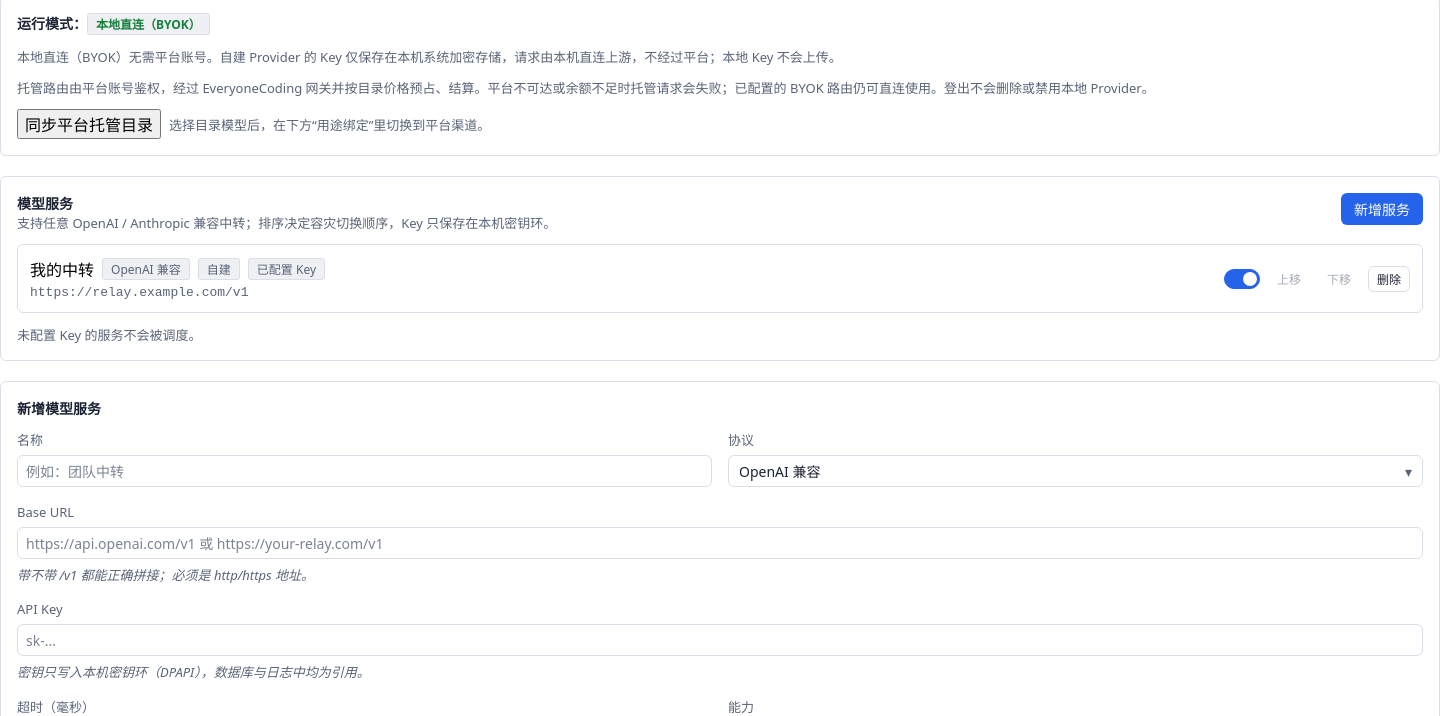
Provider 设置页 › 连接测试：确认可能计费后展示耗时与可用模型数量（V2-MDL-07）
// 选中列表里的服务进入编辑态
Click the text "我的中转": (178, 269) [30,257,325,281]
(page scrolled)
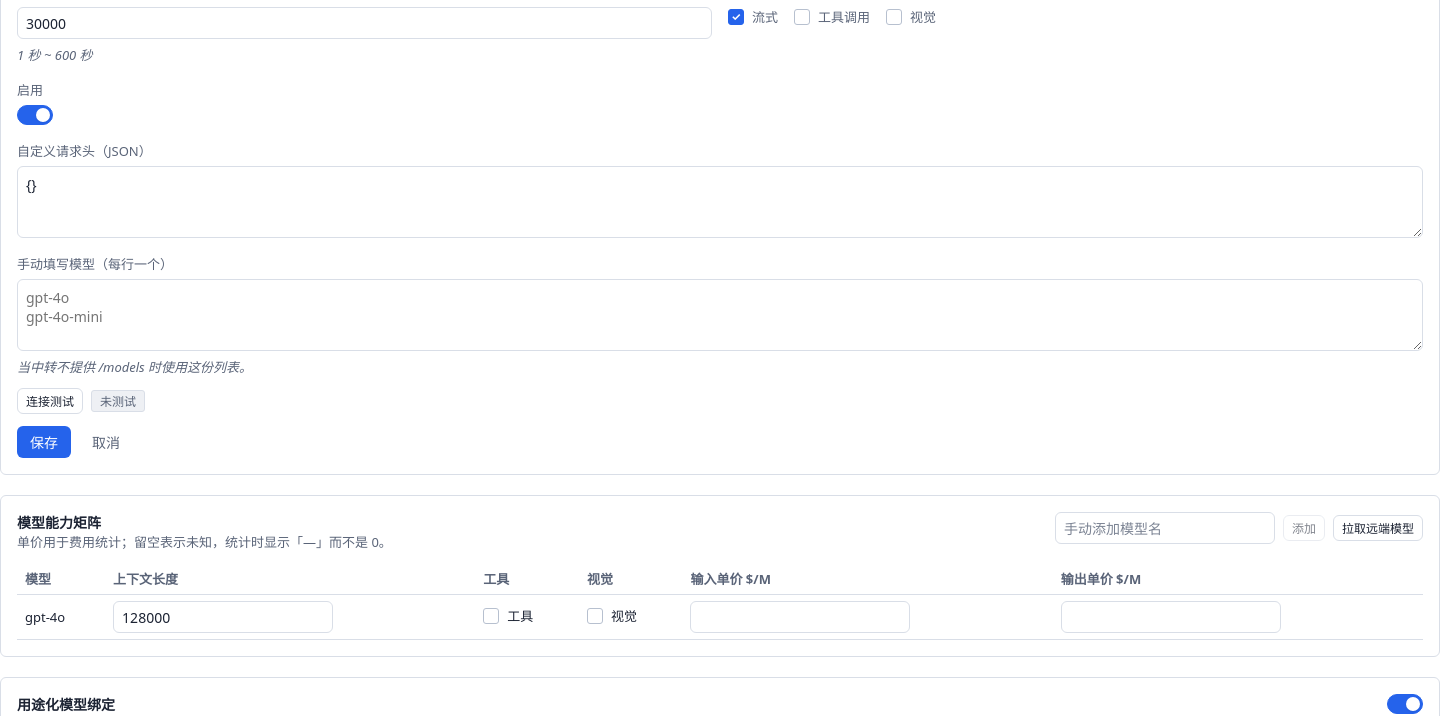
Click the button "连接测试": (50, 401) [17,388,83,414]
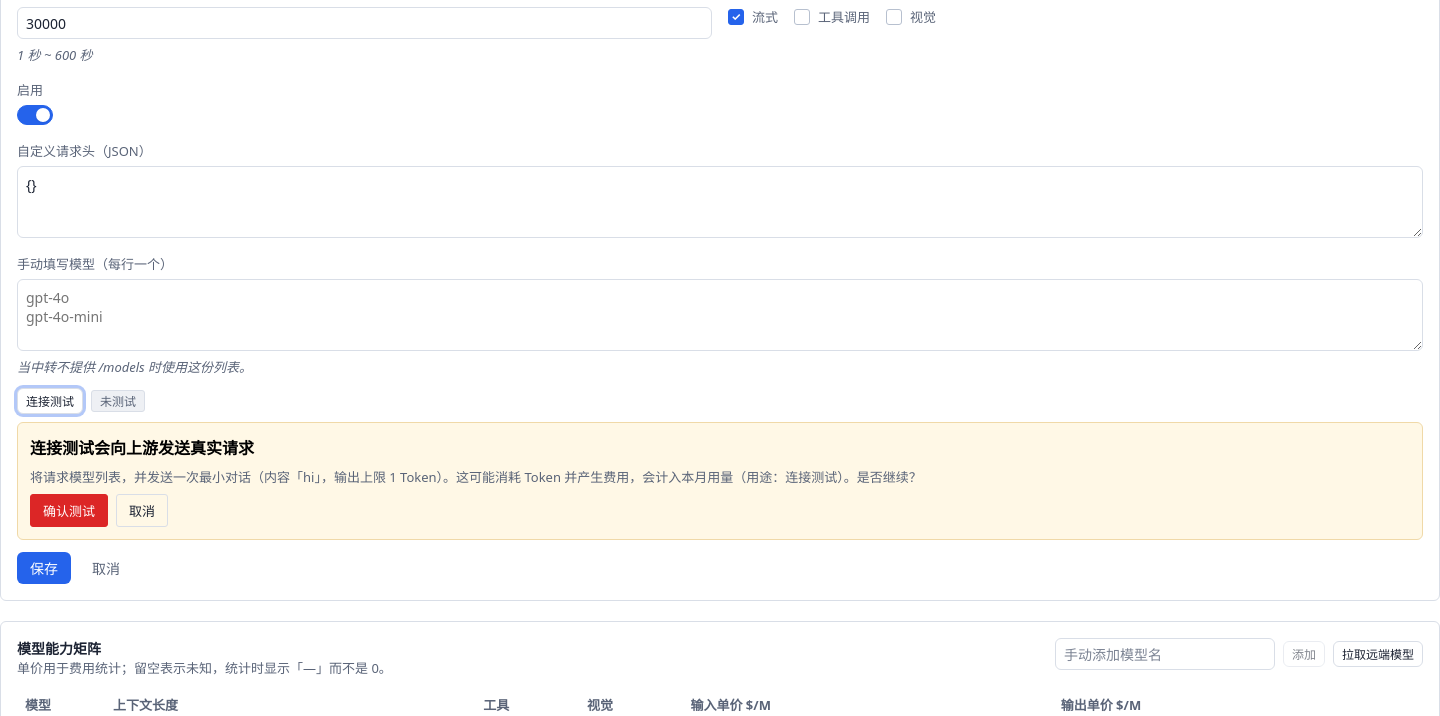
// 测试是真实上游对话（可能消耗 Token）：先确认再执行
Click the button "确认测试": (69, 510) [30,494,108,527]
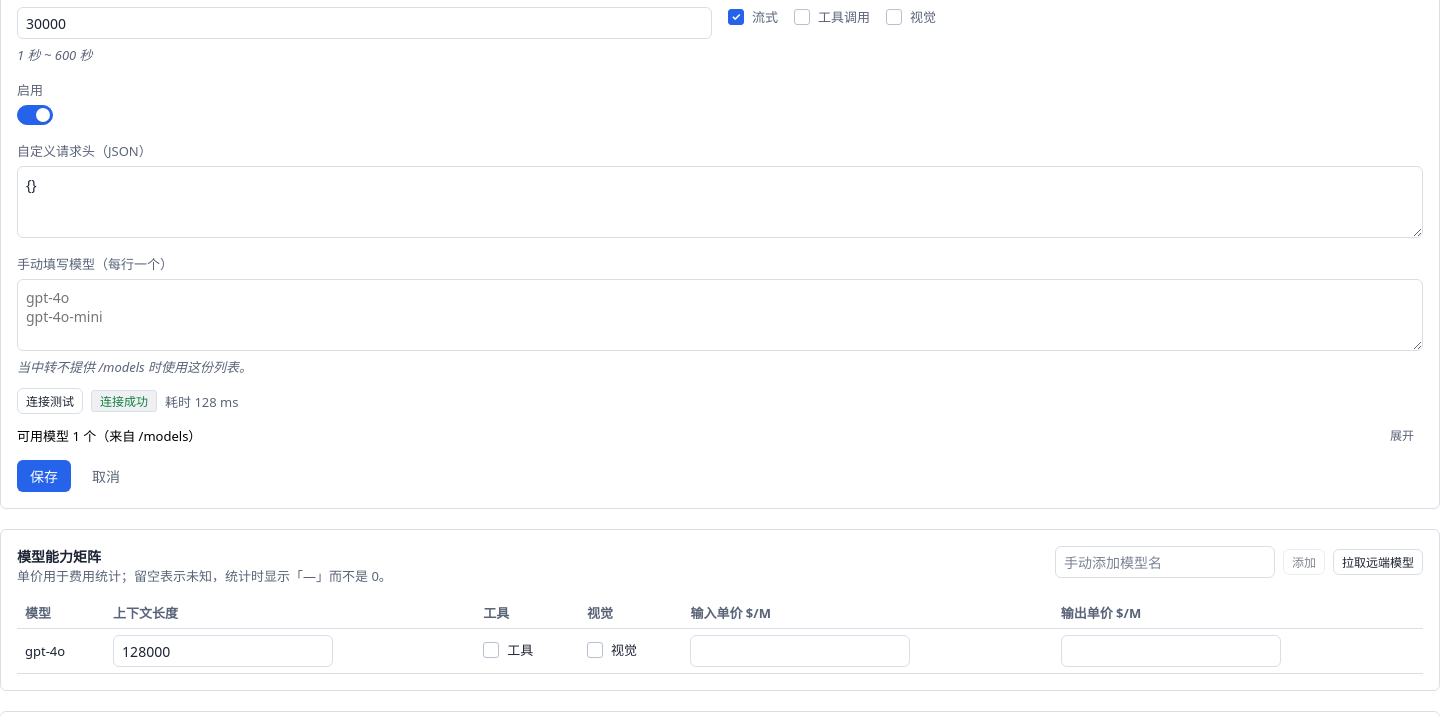
Expected: the text "连接成功" is shown, [100,392,148,410]
Expected: the text "耗时 128 ms" is shown, [165,392,238,410]
Click the button "展开": (1402, 435) [1381,422,1423,448]
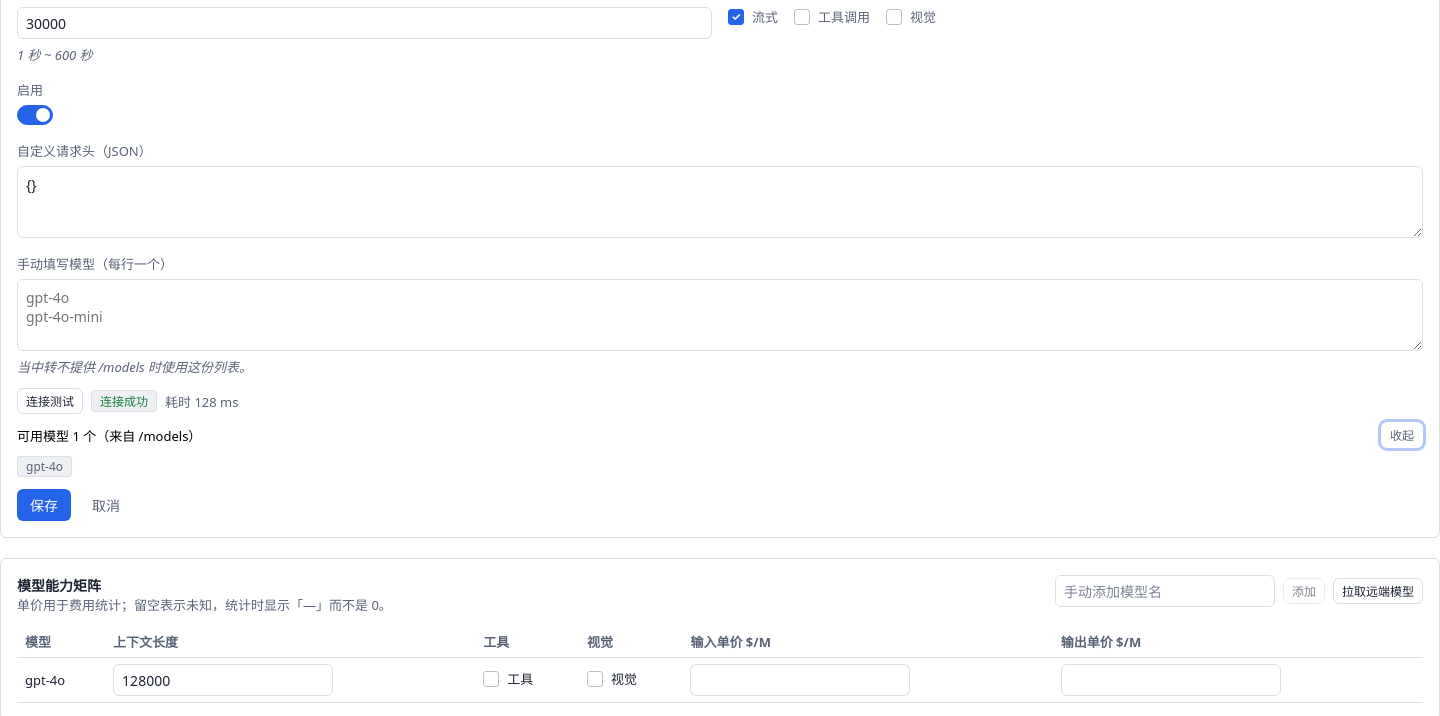
Expected: the text "gpt-4o" below "可用模型" is shown, [26,458,63,475]
